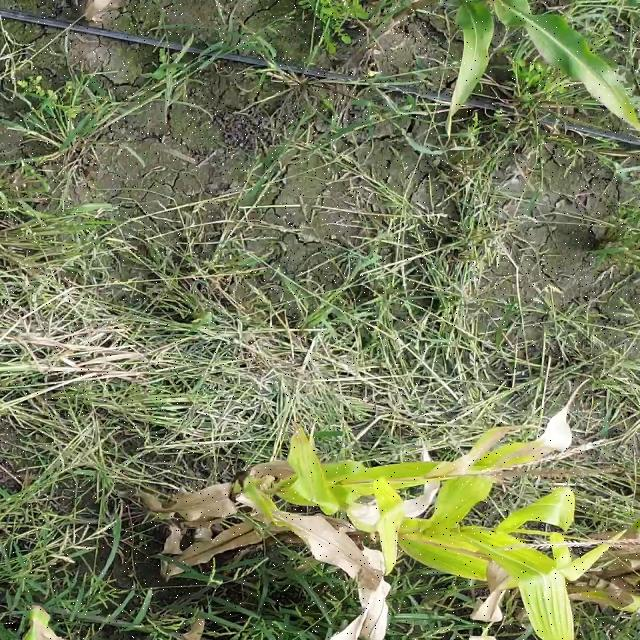northern-leaf-blight: (458, 425, 580, 474), (294, 441, 341, 503)
